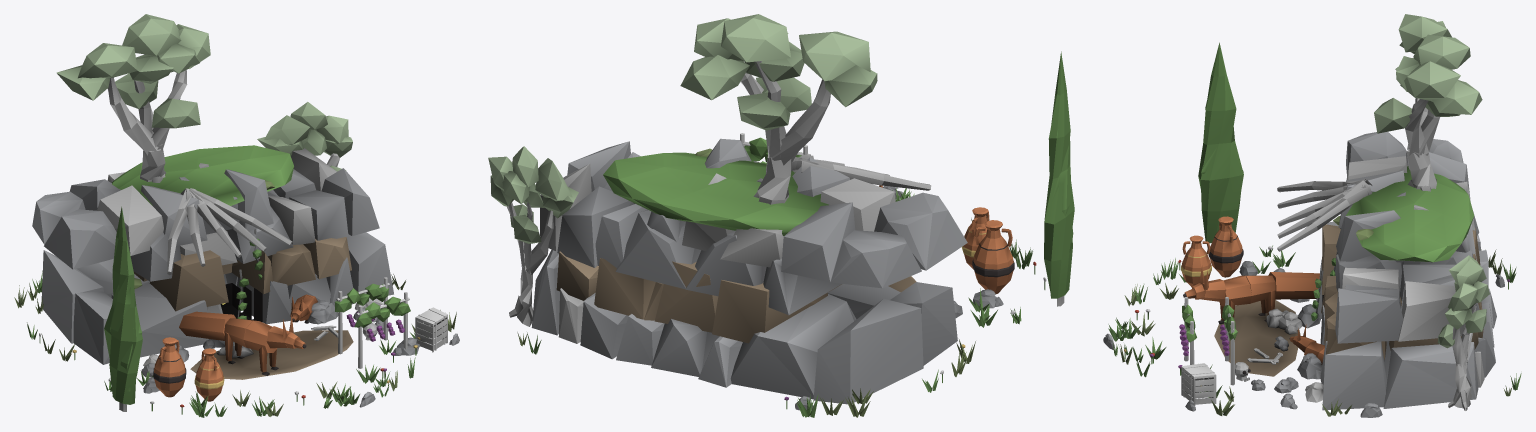
The model's file is fox-den-l2.glb.
3 views of the same model, side by side, from view 1: azimuth 30°, elevation 25°; view 2: azimuth 150°, elevation 25°; view 3: azimuth 270°, elevation 25° (orthographic). The views are drawn at different scales.
Visible parts, largest first — view 1: fox-den-l2; view 2: fox-den-l2; view 3: fox-den-l2.
Boxes of the visible parts, box(x1,y1,x2,y2) form: fox-den-l2: box(14, 14, 459, 417); fox-den-l2: box(488, 14, 1074, 417); fox-den-l2: box(1103, 14, 1521, 417).
Bounding box in the file's own units: 1.51 × 1.16 × 1.53.
